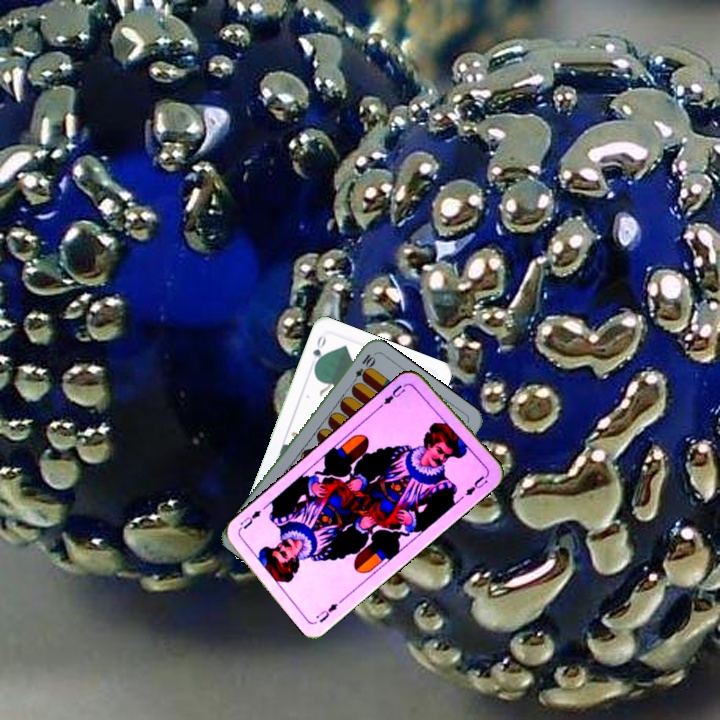E10: (348, 350, 377, 388)
EU: (377, 379, 411, 409), (312, 599, 340, 625)
GO: (309, 330, 329, 371)
